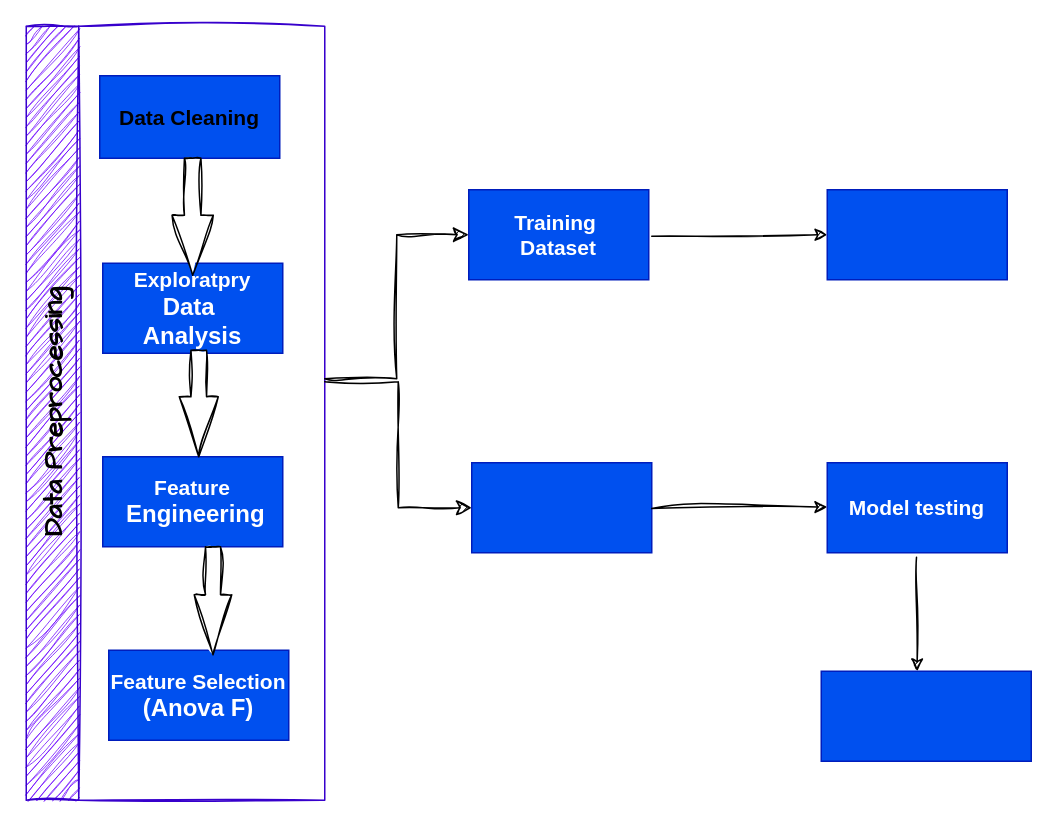
Image size: 1058x827. Some labels were removed from this diagram. The centre of each missing label's shape, as x and y in pixels:
Intrusion Detection System: pixel 925 715
Model Training (LR,GN,GB): pixel 916 234
Testing Dataset: pixel 561 507
